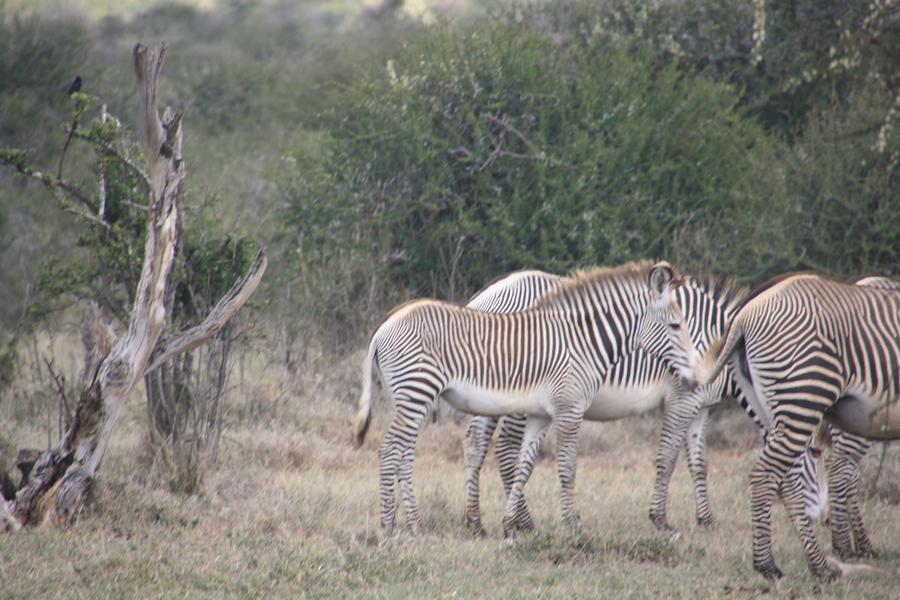zebra_grevys: (376, 281, 597, 426)
